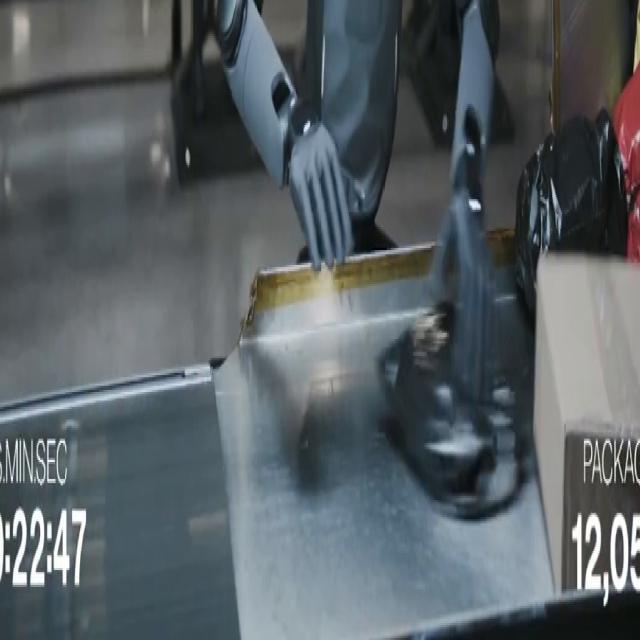package: (534, 255, 639, 593), (378, 301, 533, 519), (516, 111, 627, 311), (613, 70, 639, 262), (628, 202, 639, 262), (634, 5, 639, 72)
